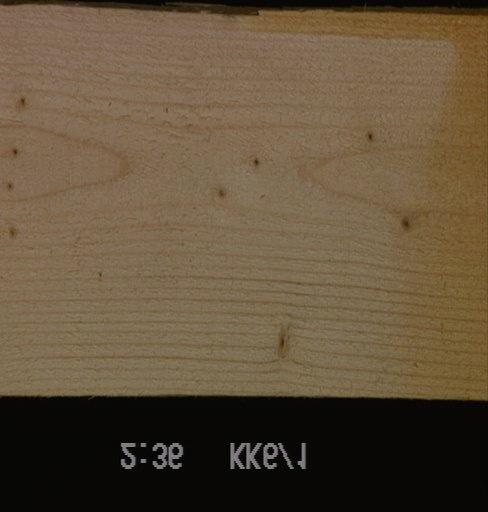small_knot: (387, 213, 425, 243), (269, 324, 296, 362), (0, 217, 25, 248), (0, 143, 30, 165), (357, 126, 382, 147), (248, 152, 268, 176), (14, 94, 35, 114), (211, 183, 233, 201), (0, 176, 18, 193)
wave: (156, 5, 483, 47)
